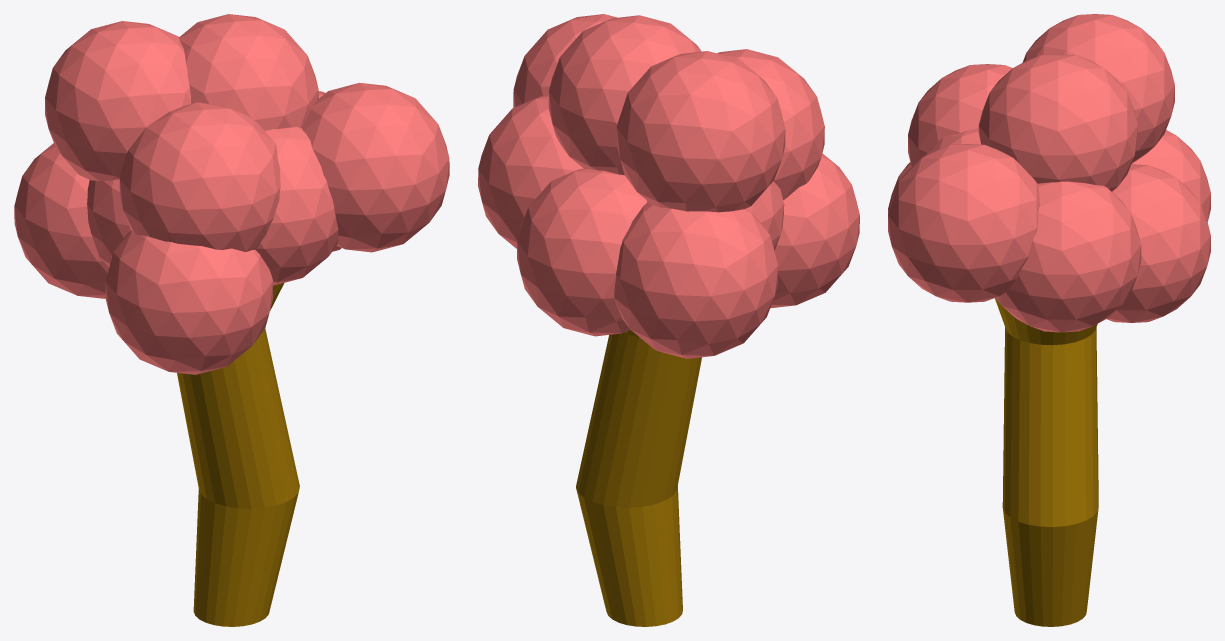
File: Tree1.fbx
3 views of the same model, side by side, from view 1: azimuth 30°, elevation 25°; view 2: azimuth 150°, elevation 25°; view 3: azimuth 270°, elevation 25° (orthographic). The views are drawn at different scales.
Visible parts, largest first — view 1: Mesh46; view 2: Mesh46; view 3: Mesh46.
Part boxes in pixels (box(x1,y1,x2,y2)): Mesh46: box(14, 14, 449, 626); Mesh46: box(478, 14, 859, 626); Mesh46: box(888, 14, 1210, 626).
Size of the model in its own units: 1328 by 2268 by 1196.
